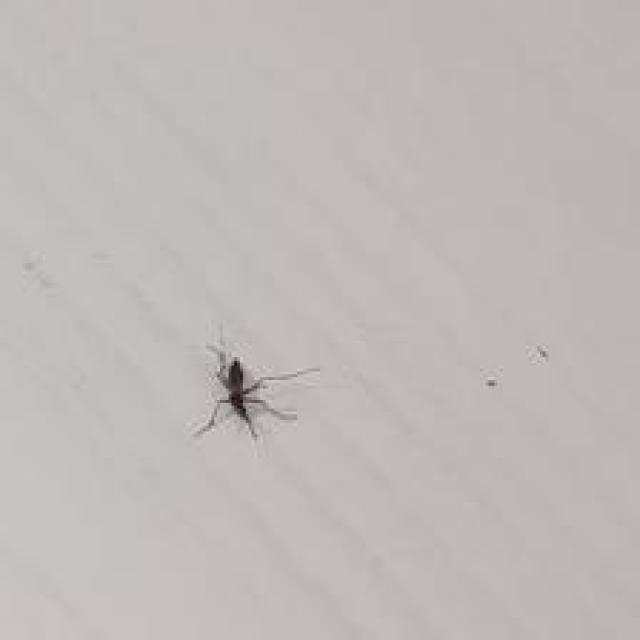Aedes albopictus: (191, 328, 320, 443)
